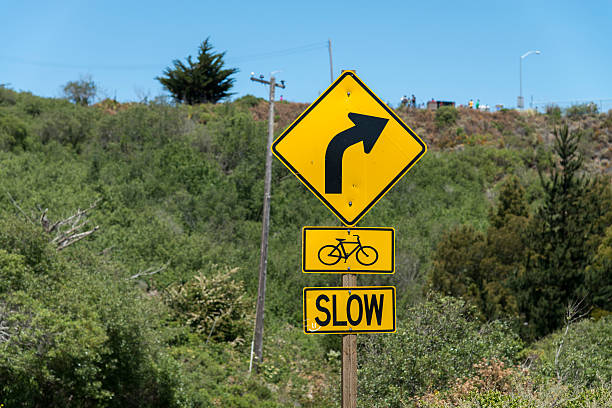right turn: (271, 71, 428, 225)
